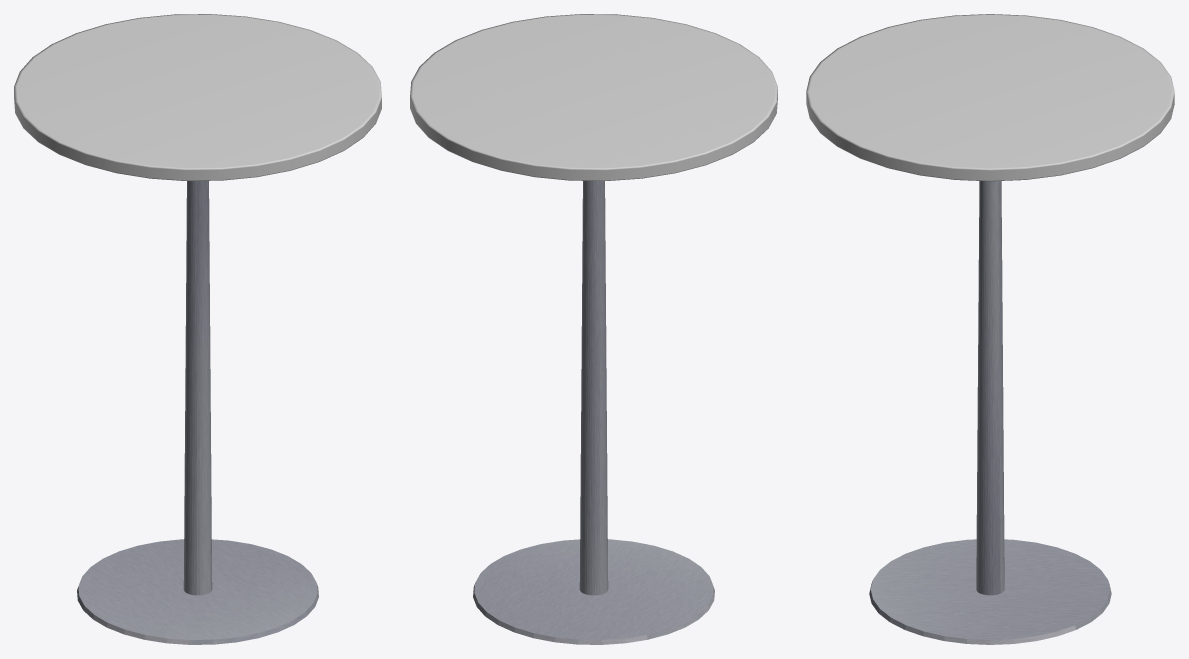
Rendered from RoundTable.fbx.
3 renders of one model, left to right at view 1: azimuth 30°, elevation 25°; view 2: azimuth 150°, elevation 25°; view 3: azimuth 270°, elevation 25°, orthographic.
Parts seen in each view (by area): view 1: RoundTable; view 2: RoundTable; view 3: RoundTable.
Boxes of the visible parts, <box> form: RoundTable: <box>14,14,381,644</box>; RoundTable: <box>410,14,777,644</box>; RoundTable: <box>806,14,1174,644</box>.
Bounding box in the file's own units: 90.1 × 135 × 90.1.
